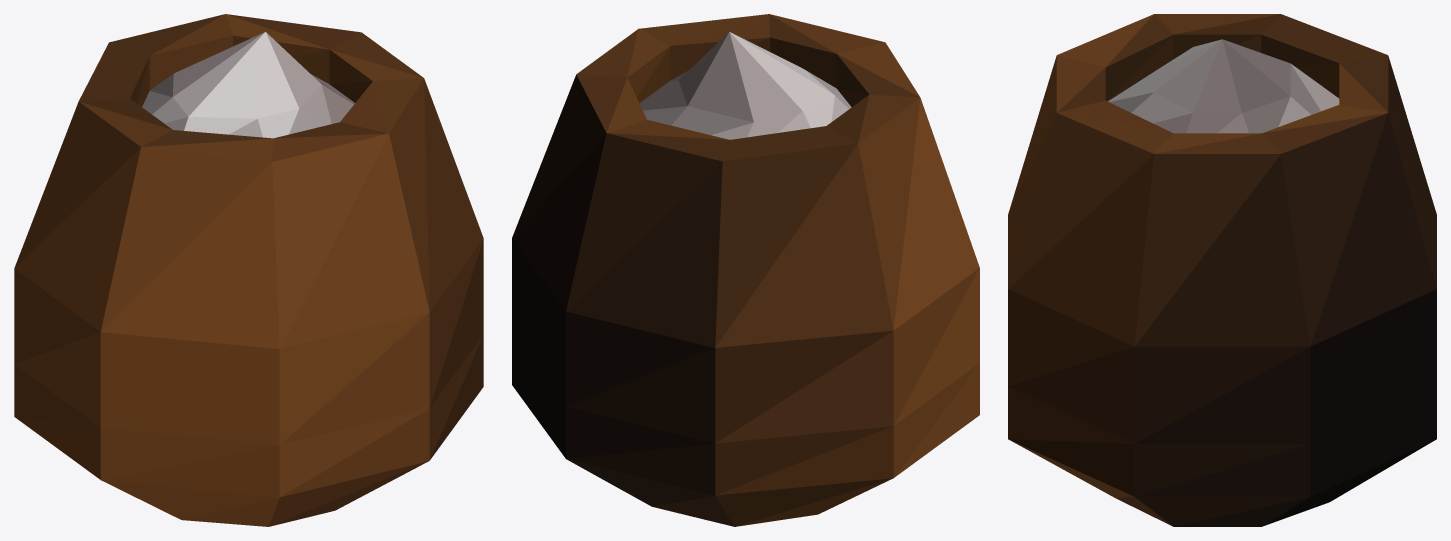
File: pot-of-flour.obj
3 views of the same model, side by side, from view 1: azimuth 30°, elevation 25°; view 2: azimuth 150°, elevation 25°; view 3: azimuth 270°, elevation 25° (orthographic).
Visible parts, largest first — view 1: Item Pot of flour 2026-10-17_20-23-36; view 2: Item Pot of flour 2026-10-17_20-23-36; view 3: Item Pot of flour 2026-10-17_20-23-36.
Part boxes in pixels (box(x1,y1,x2,y2)): Item Pot of flour 2026-10-17_20-23-36: box(14, 14, 483, 526); Item Pot of flour 2026-10-17_20-23-36: box(512, 14, 979, 526); Item Pot of flour 2026-10-17_20-23-36: box(1008, 14, 1436, 526).
Size of the model in its own units: 46 by 51 by 44.
